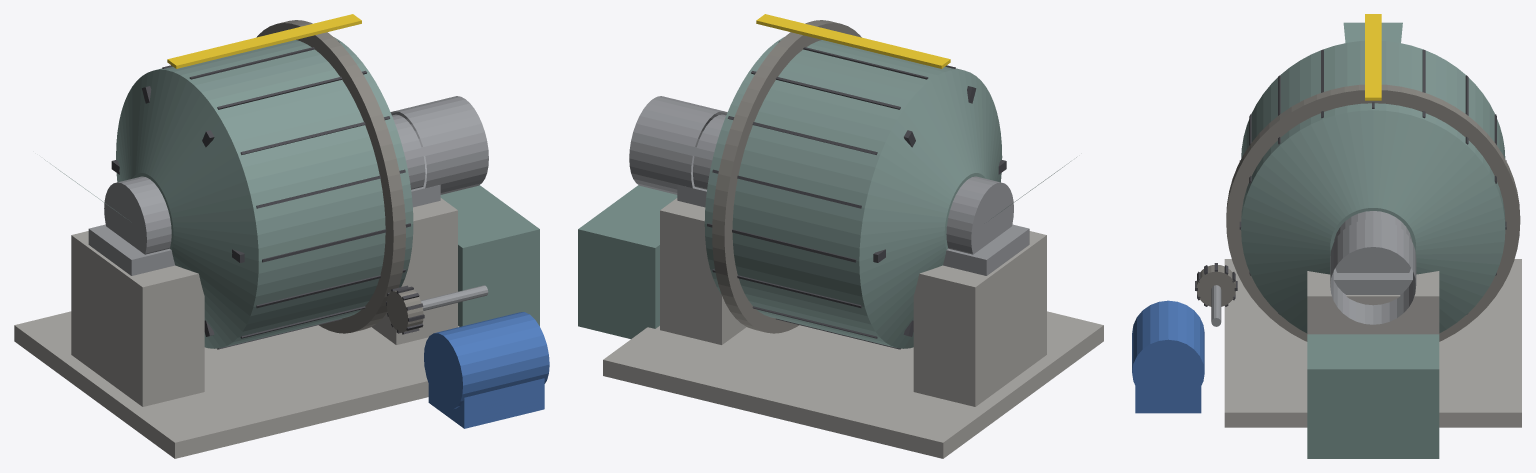
File: EQ_SAGMill.glb
3 views of the same model, side by side, from view 1: azimuth 30°, elevation 25°; view 2: azimuth 150°, elevation 25°; view 3: azimuth 270°, elevation 25° (orthographic). The views are drawn at different scales.
Visible parts, largest first — view 1: SAG_Shell, SAG_Frame, SAG_Pinion; view 2: SAG_Shell, SAG_Frame; view 3: SAG_Shell, SAG_Frame, SAG_Pinion.
Boxes of the visible parts, x1,y1,x2,y2 form: SAG_Shell: (104,20,488,349); SAG_Frame: (14,14,549,458); SAG_Pinion: (386,285,488,334); SAG_Shell: (629,20,1013,349); SAG_Frame: (578,14,1103,458); SAG_Shell: (1226,40,1520,341); SAG_Frame: (1132,14,1521,458); SAG_Pinion: (1195,263,1237,326).
Bounding box in the file's own units: 14.75 × 9.85 × 11.8.
